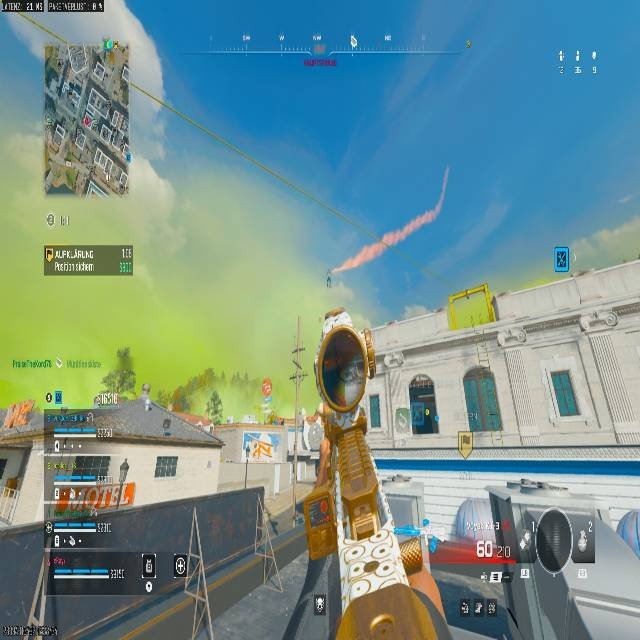head: (312, 325, 375, 411), (322, 308, 348, 330)
